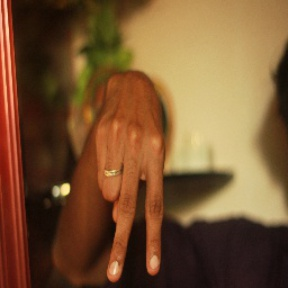Y: (86, 116, 167, 283)
